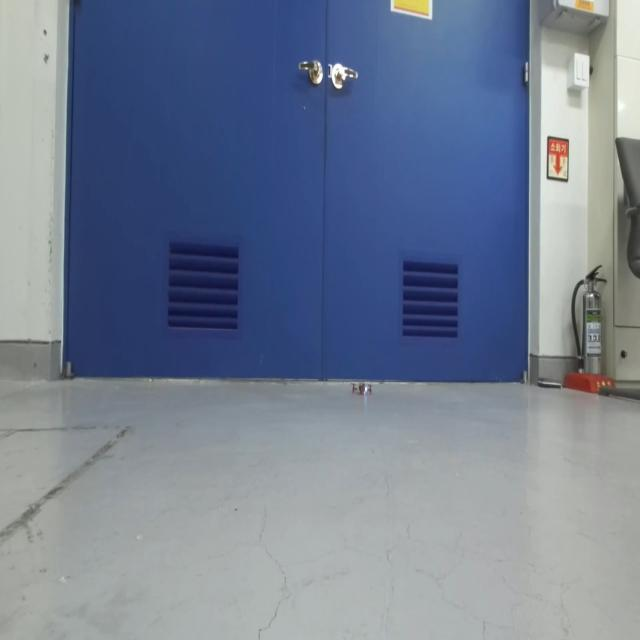crazyflie: (349, 378, 376, 402)
